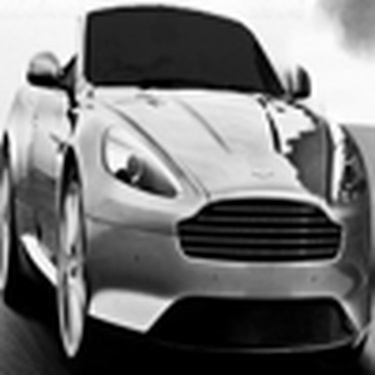car: (1, 3, 369, 369)
